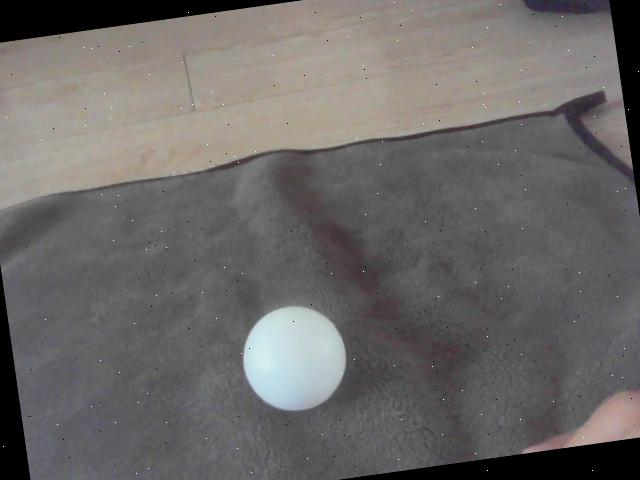ball: (234, 301, 352, 418)
